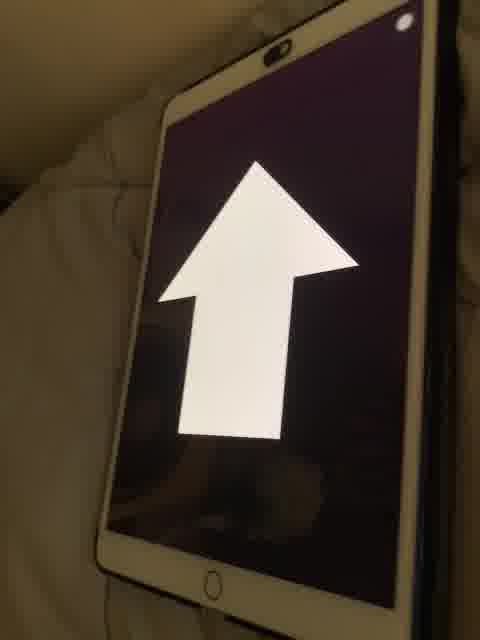up: (156, 154, 358, 447)
